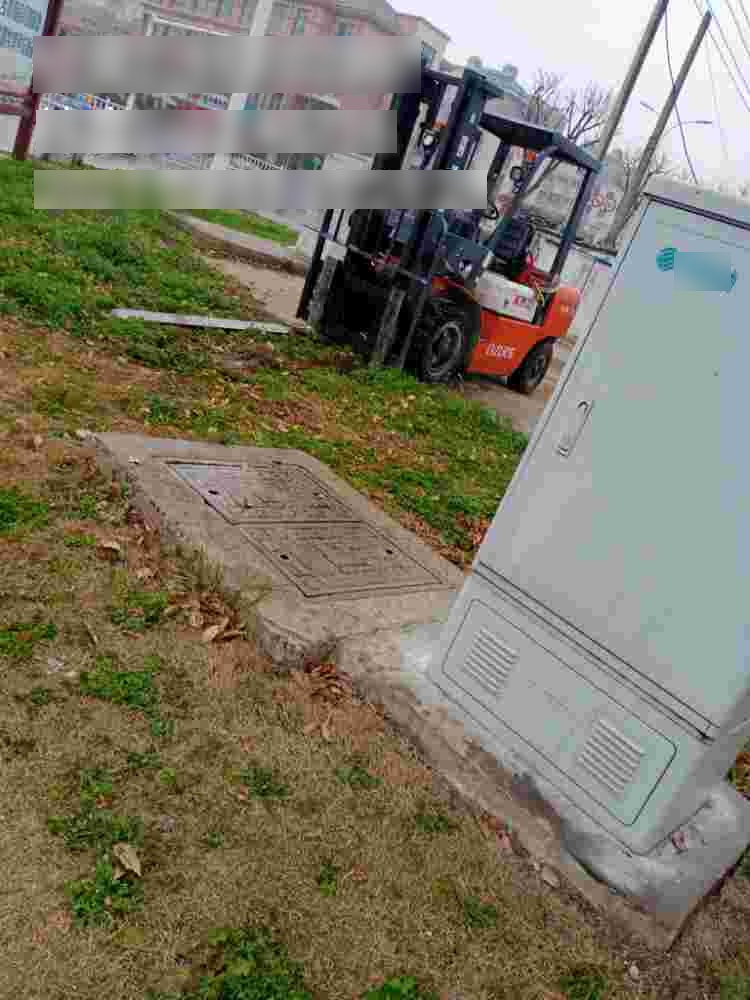good: (159, 456, 456, 604)
